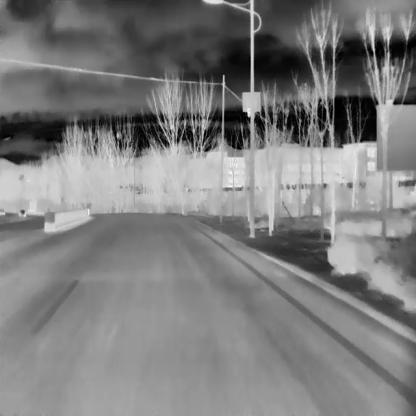car: (18, 209, 26, 217)
